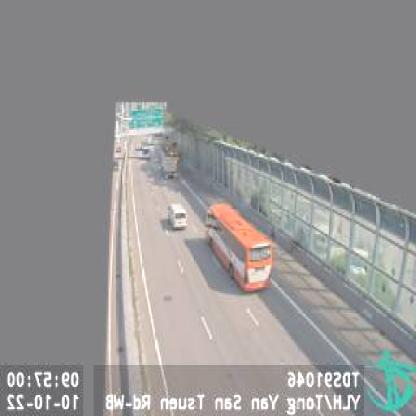Bus: (207, 201, 271, 290)
Car: (169, 204, 188, 228)
Truck: (161, 149, 177, 180)
